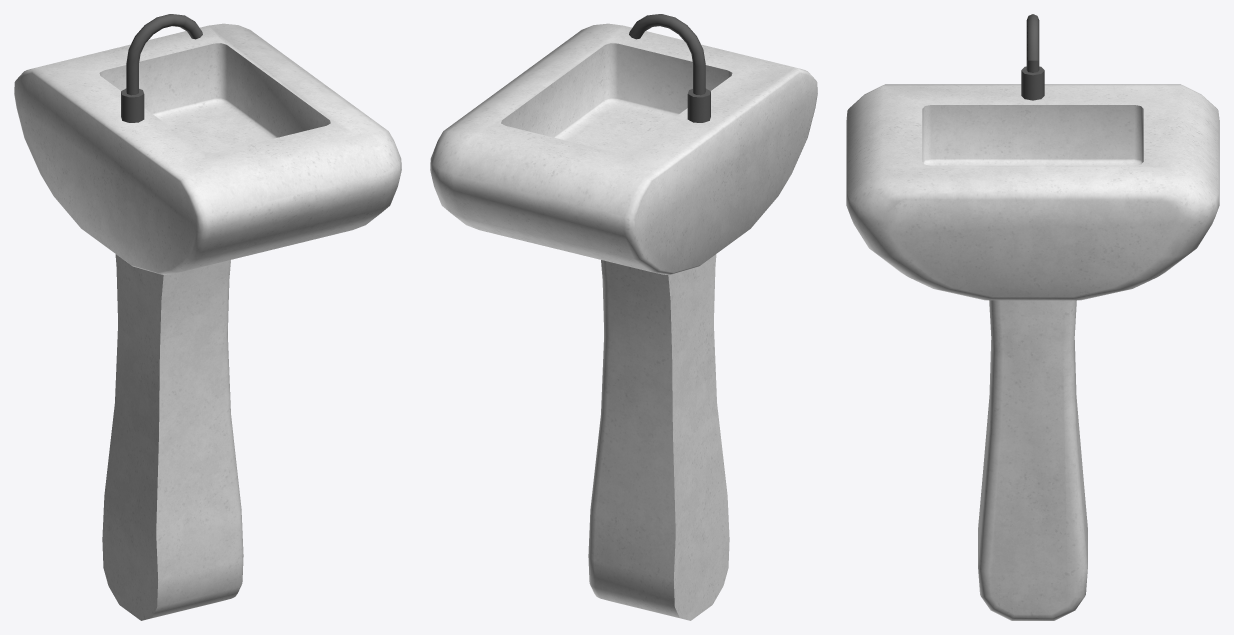
The model's file is sink.glb.
The picture shows the model from 3 angles, left to right: view 1: azimuth 30°, elevation 25°; view 2: azimuth 150°, elevation 25°; view 3: azimuth 270°, elevation 25°; orthographic projection.
Parts seen in each view (by area): view 1: sink; view 2: sink; view 3: sink.
Boxes of the visible parts, left/top/right/bottom form: sink: left=14, top=14, right=401, bottom=620; sink: left=430, top=14, right=817, bottom=620; sink: left=846, top=14, right=1219, bottom=620.
Size of the model in its own units: 0.4695 by 1.22 by 0.7119.
Materials: 1 (1 with a texture image).
